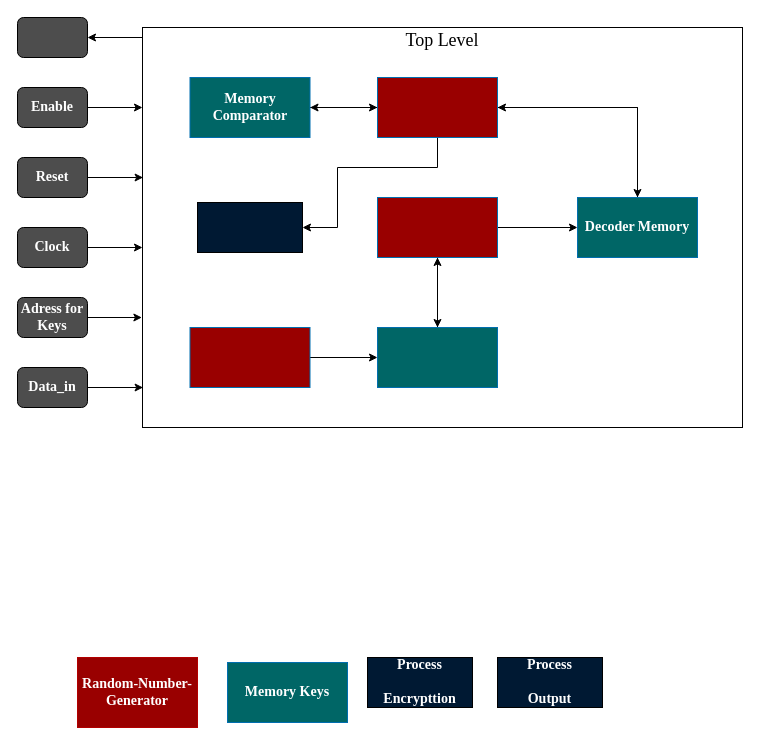
The diagram is 760 pixels wide and 745 high, and some of its shapes have lost their labels. The shapes that lost their labels are listed below. From the top down, each one's centre as x and y in pixels, then its label:
the point at 52,37: LEDS
the point at 437,107: Comparator
the point at 249,227: Process LED-Manager
the point at 437,227: Decoder
the point at 249,357: Synchronization
the point at 437,357: Synchronization Memory
